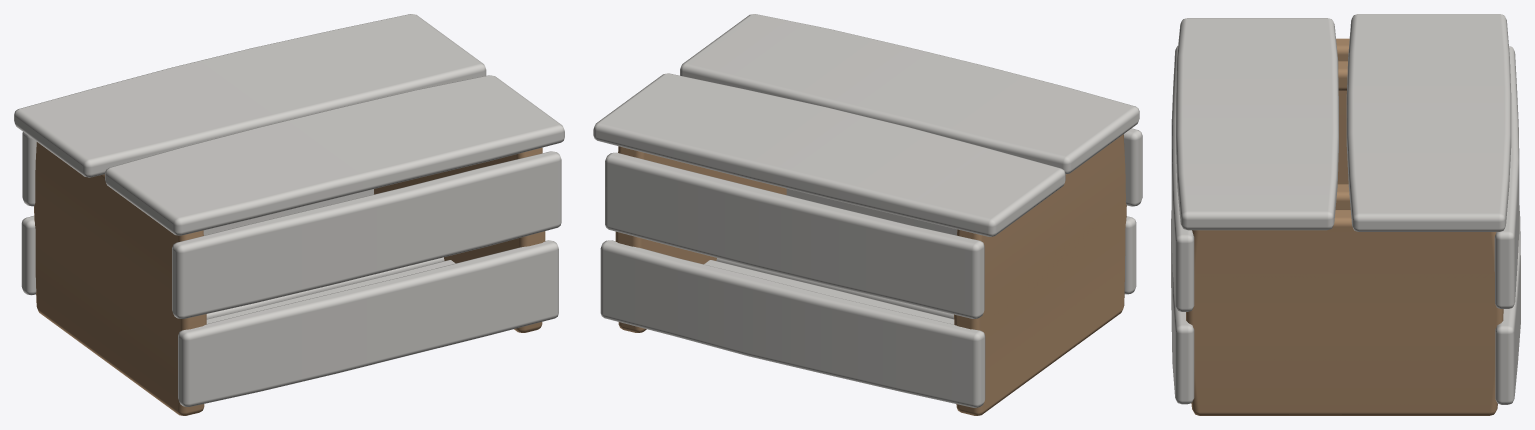
The model's file is pg_crate_2.glb.
3 views of the same model, side by side, from view 1: azimuth 30°, elevation 25°; view 2: azimuth 150°, elevation 25°; view 3: azimuth 270°, elevation 25° (orthographic). The views are drawn at different scales.
Visible parts, largest first — view 1: pg_crate_2_pg_slat, pg_crate_2_timber; view 2: pg_crate_2_pg_slat, pg_crate_2_timber; view 3: pg_crate_2_pg_slat, pg_crate_2_timber.
Part boxes in pixels (x1,y1,x2,y2): pg_crate_2_pg_slat: (14,14,564,406); pg_crate_2_timber: (34,142,545,415); pg_crate_2_pg_slat: (593,14,1142,407); pg_crate_2_timber: (615,134,1126,415); pg_crate_2_pg_slat: (1171,14,1520,404); pg_crate_2_timber: (1186,38,1503,415).
Size of the model in its own units: 0.7901 by 0.3887 by 0.571.
